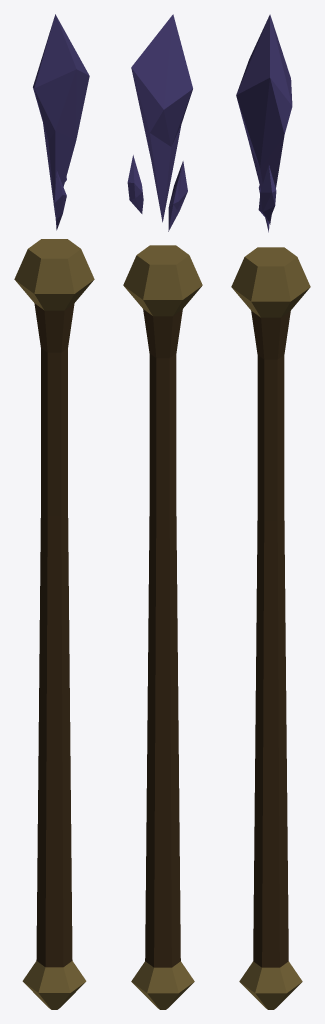
File: mahogany-staff.glb
3 views of the same model, side by side, from view 1: azimuth 90°, elevation 25°; view 2: azimuth 210°, elevation 25°; view 3: azimuth 270°, elevation 25° (orthographic).
Parts seen in each view (by area): view 1: 2H - Mahogany Staff - Zsky; view 2: 2H - Mahogany Staff - Zsky; view 3: 2H - Mahogany Staff - Zsky.
Boxes of the visible parts, x1=… form: 2H - Mahogany Staff - Zsky: x1=14, y1=14, x2=94, y2=1009; 2H - Mahogany Staff - Zsky: x1=123, y1=14, x2=202, y2=1009; 2H - Mahogany Staff - Zsky: x1=231, y1=14, x2=310, y2=1009.
Size of the model in its own units: 0.1204 by 1.73 by 0.1263.
